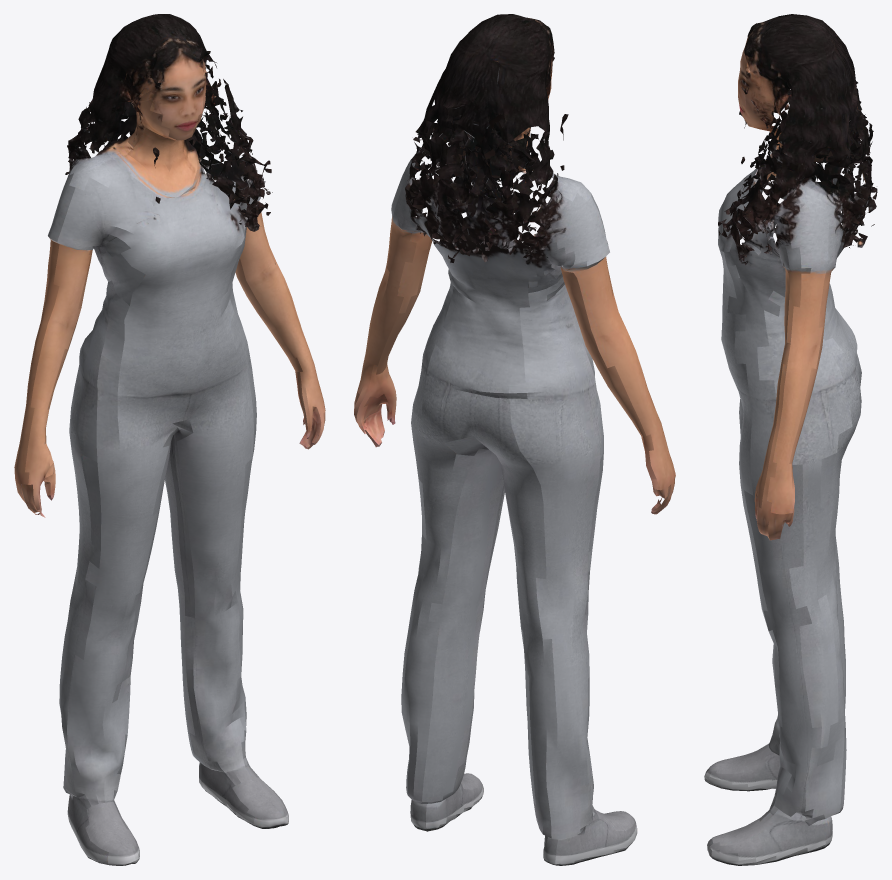
The model's file is sivani-optimized.glb.
The picture shows the model from 3 angles, left to right: view 1: azimuth 30°, elevation 25°; view 2: azimuth 150°, elevation 25°; view 3: azimuth 270°, elevation 25°; orthographic projection. The views are drawn at different scales.
Parts seen in each view (by area): view 1: Mesh0; view 2: Mesh0; view 3: Mesh0.
Boxes of the visible parts, x1,y1,x2,y2 form: Mesh0: (14, 14, 325, 865); Mesh0: (354, 14, 675, 865); Mesh0: (704, 14, 877, 865).
Size of the model in its own units: 0.7518 by 1.89 by 0.3701.
Materials: 1 (1 with a texture image).
